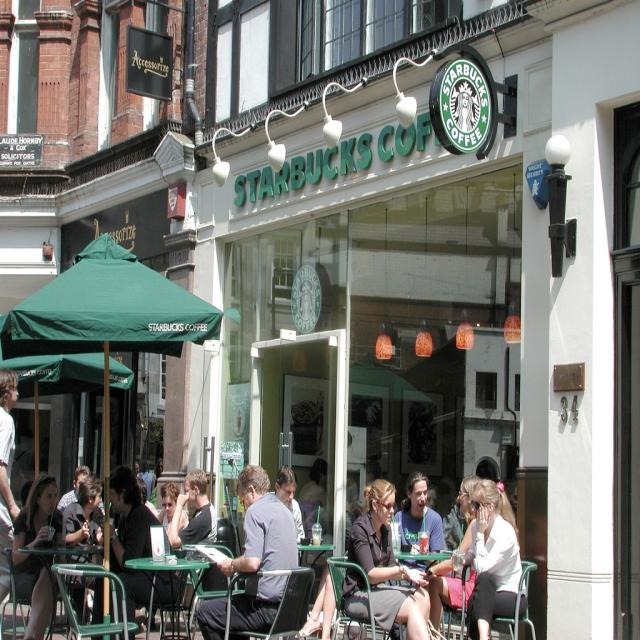starbucks: (441, 61, 492, 151), (292, 266, 322, 332)
